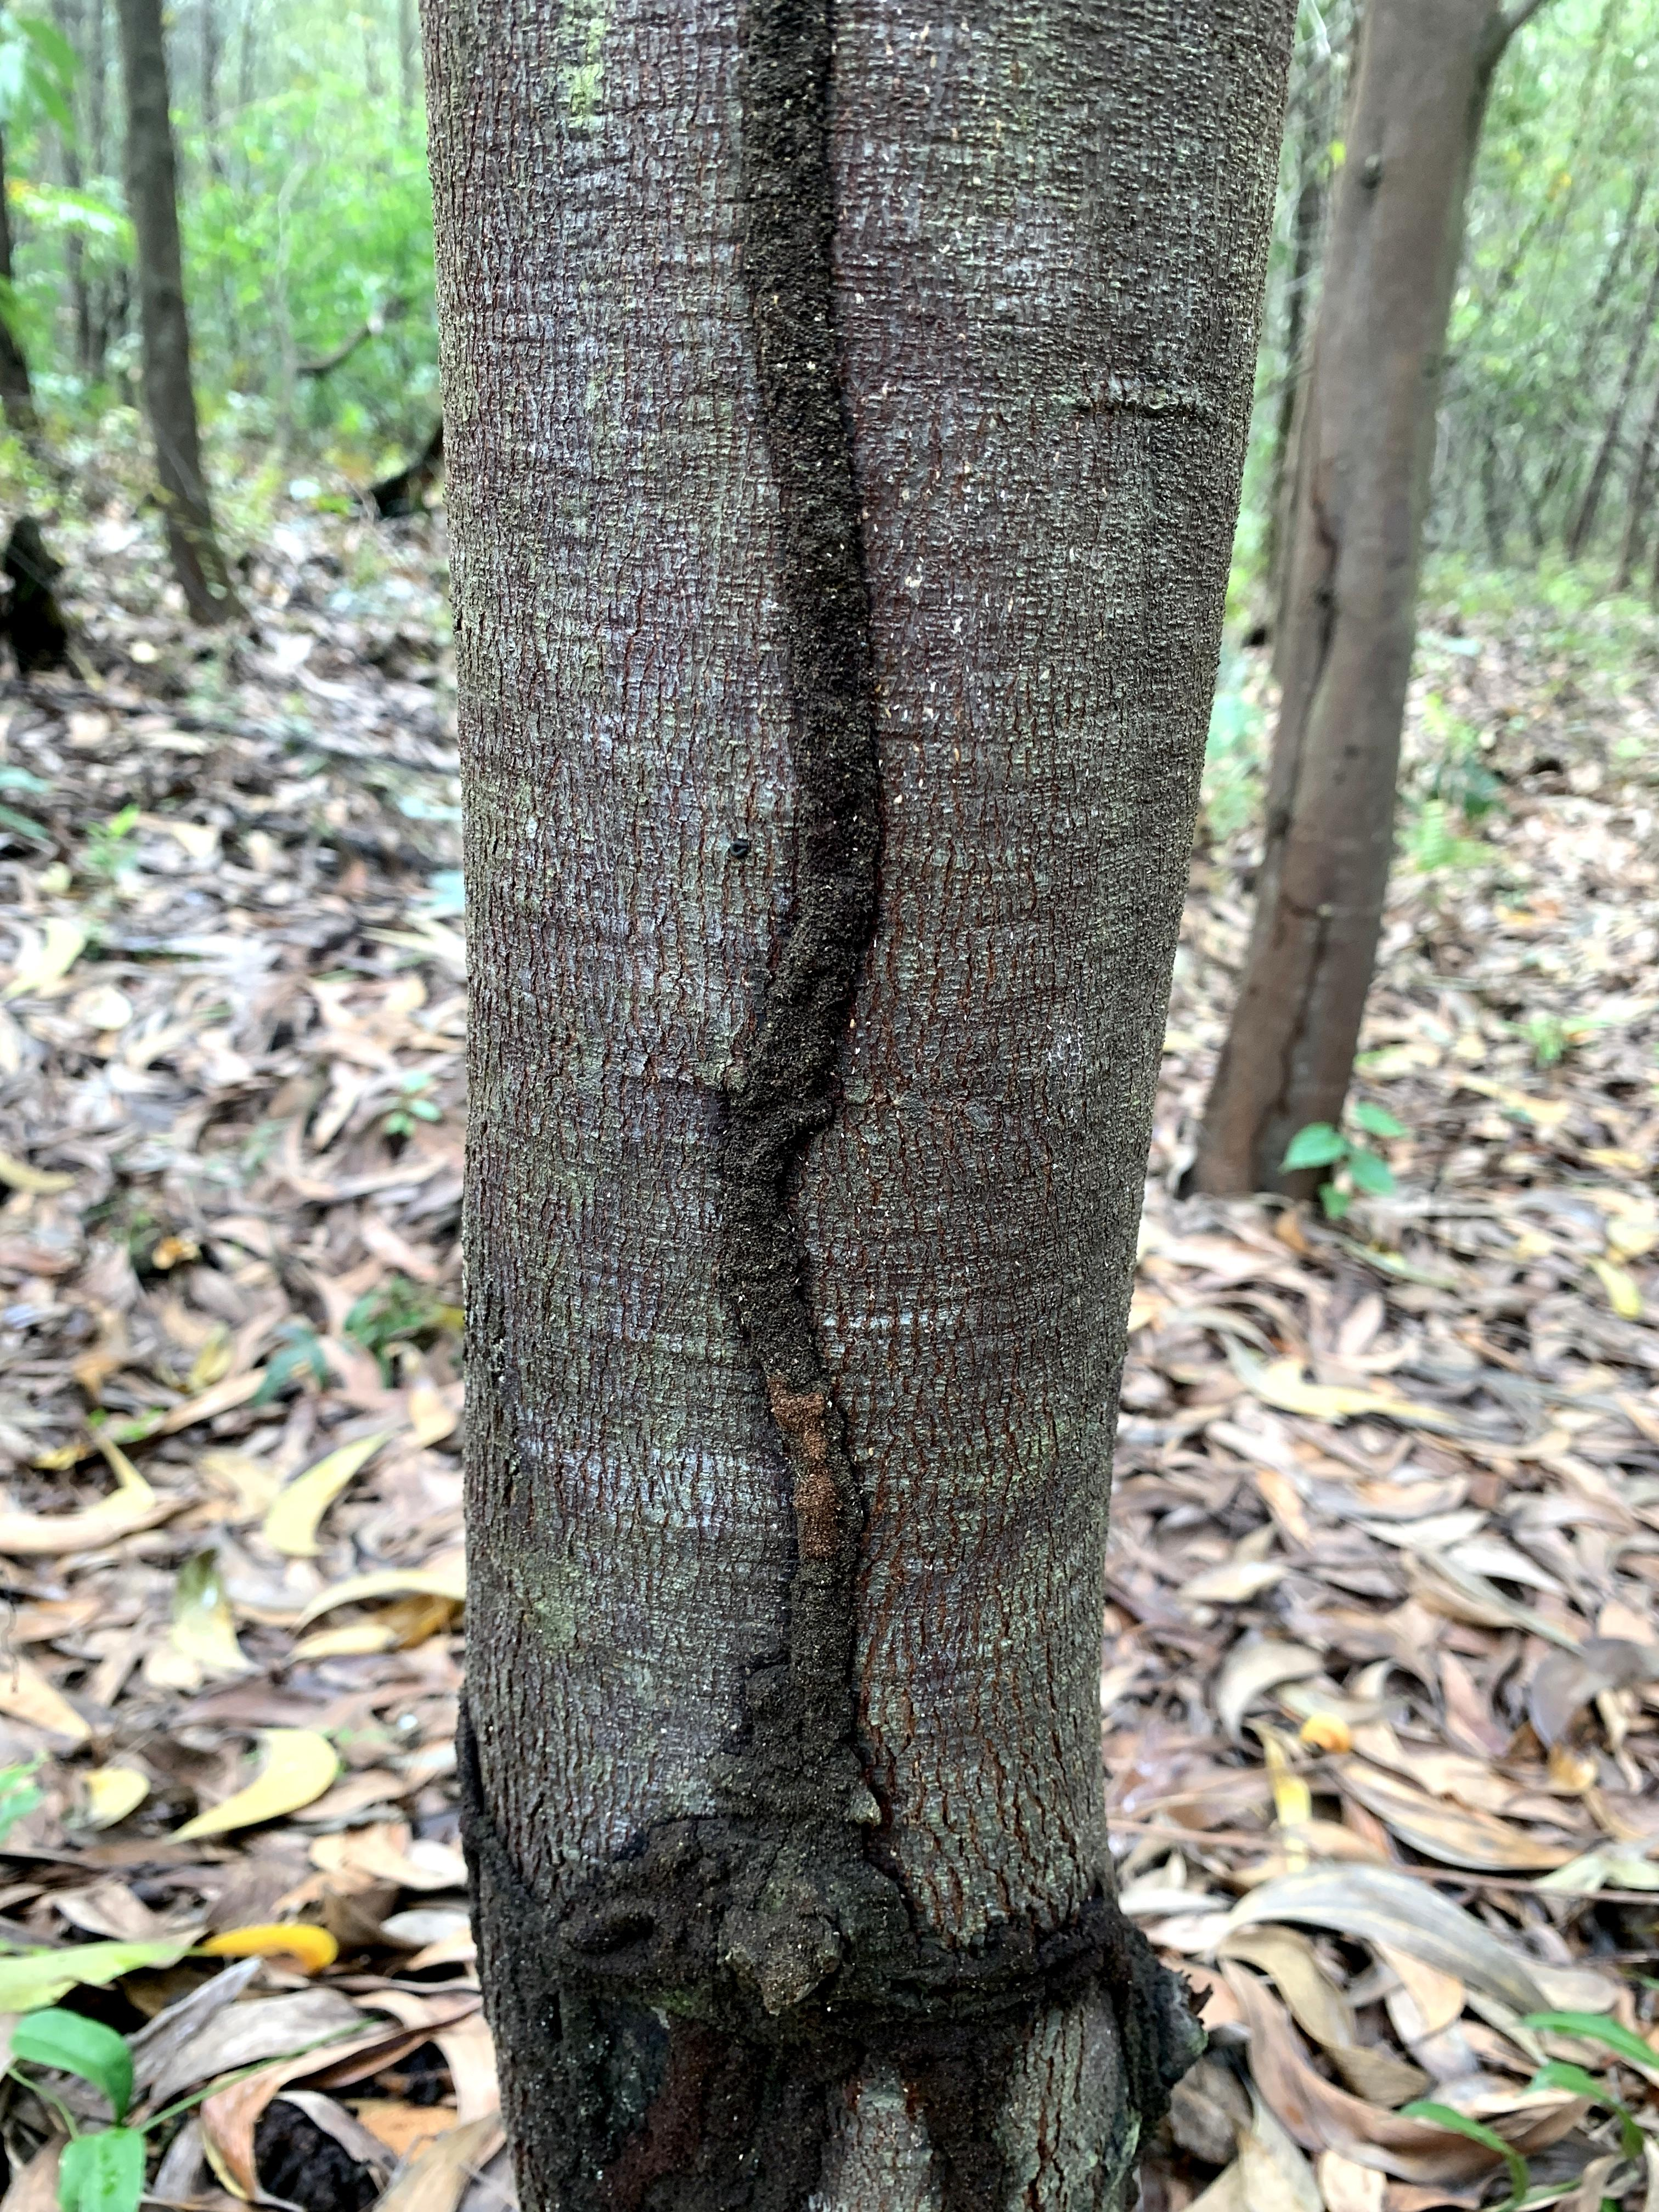Termite - Nest: (676, 2, 911, 1792), (457, 1796, 1197, 2212)
